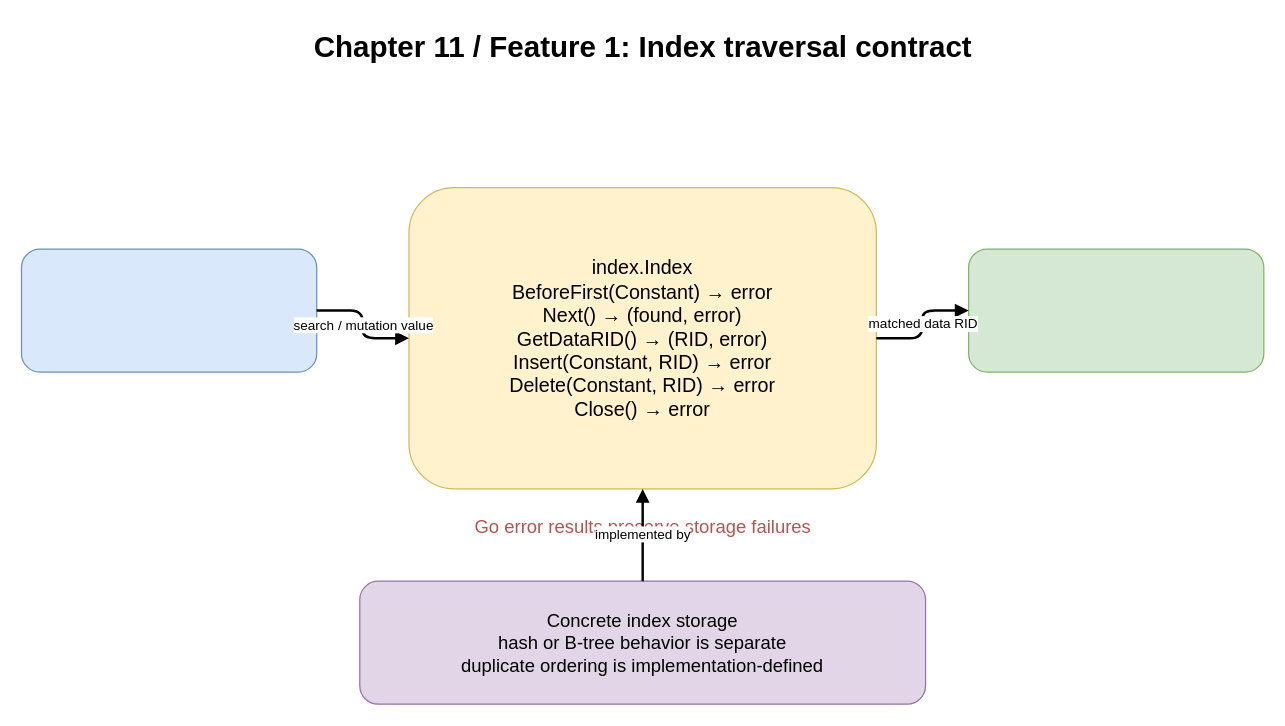
This 1285x726 diagram has some shape labels left out. The centre of each missing label's shape, as x and y in pixels:
query.Constant search key / data value: the point at 168,310
record.RID table record identifier: the point at 1115,310
